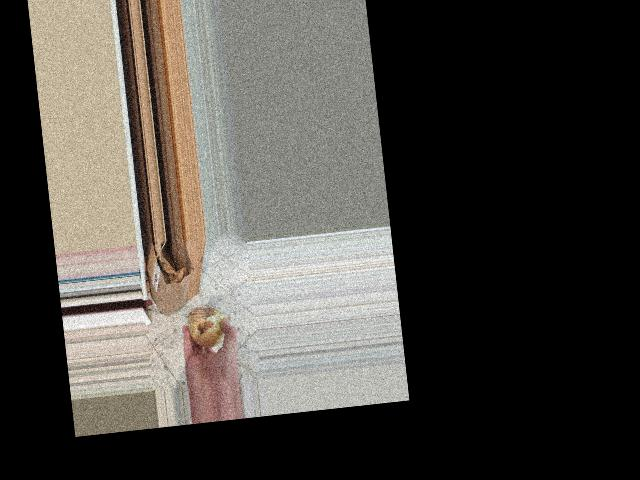onion: (185, 303, 234, 352)
